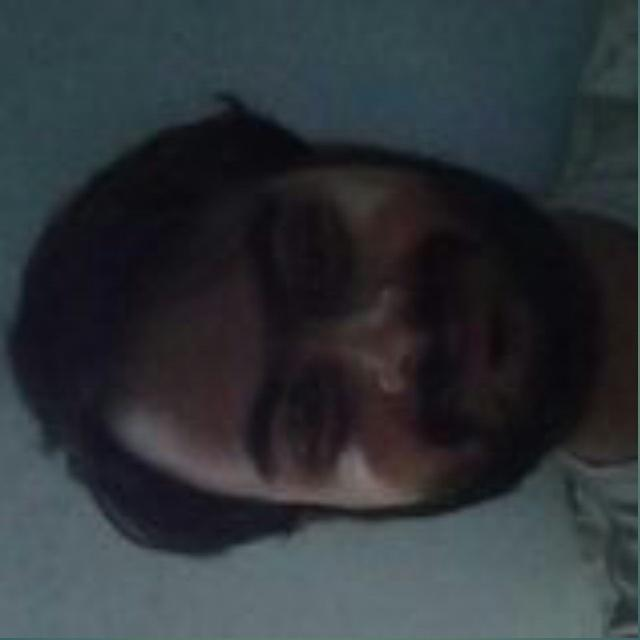Happy: (79, 122, 566, 553)
